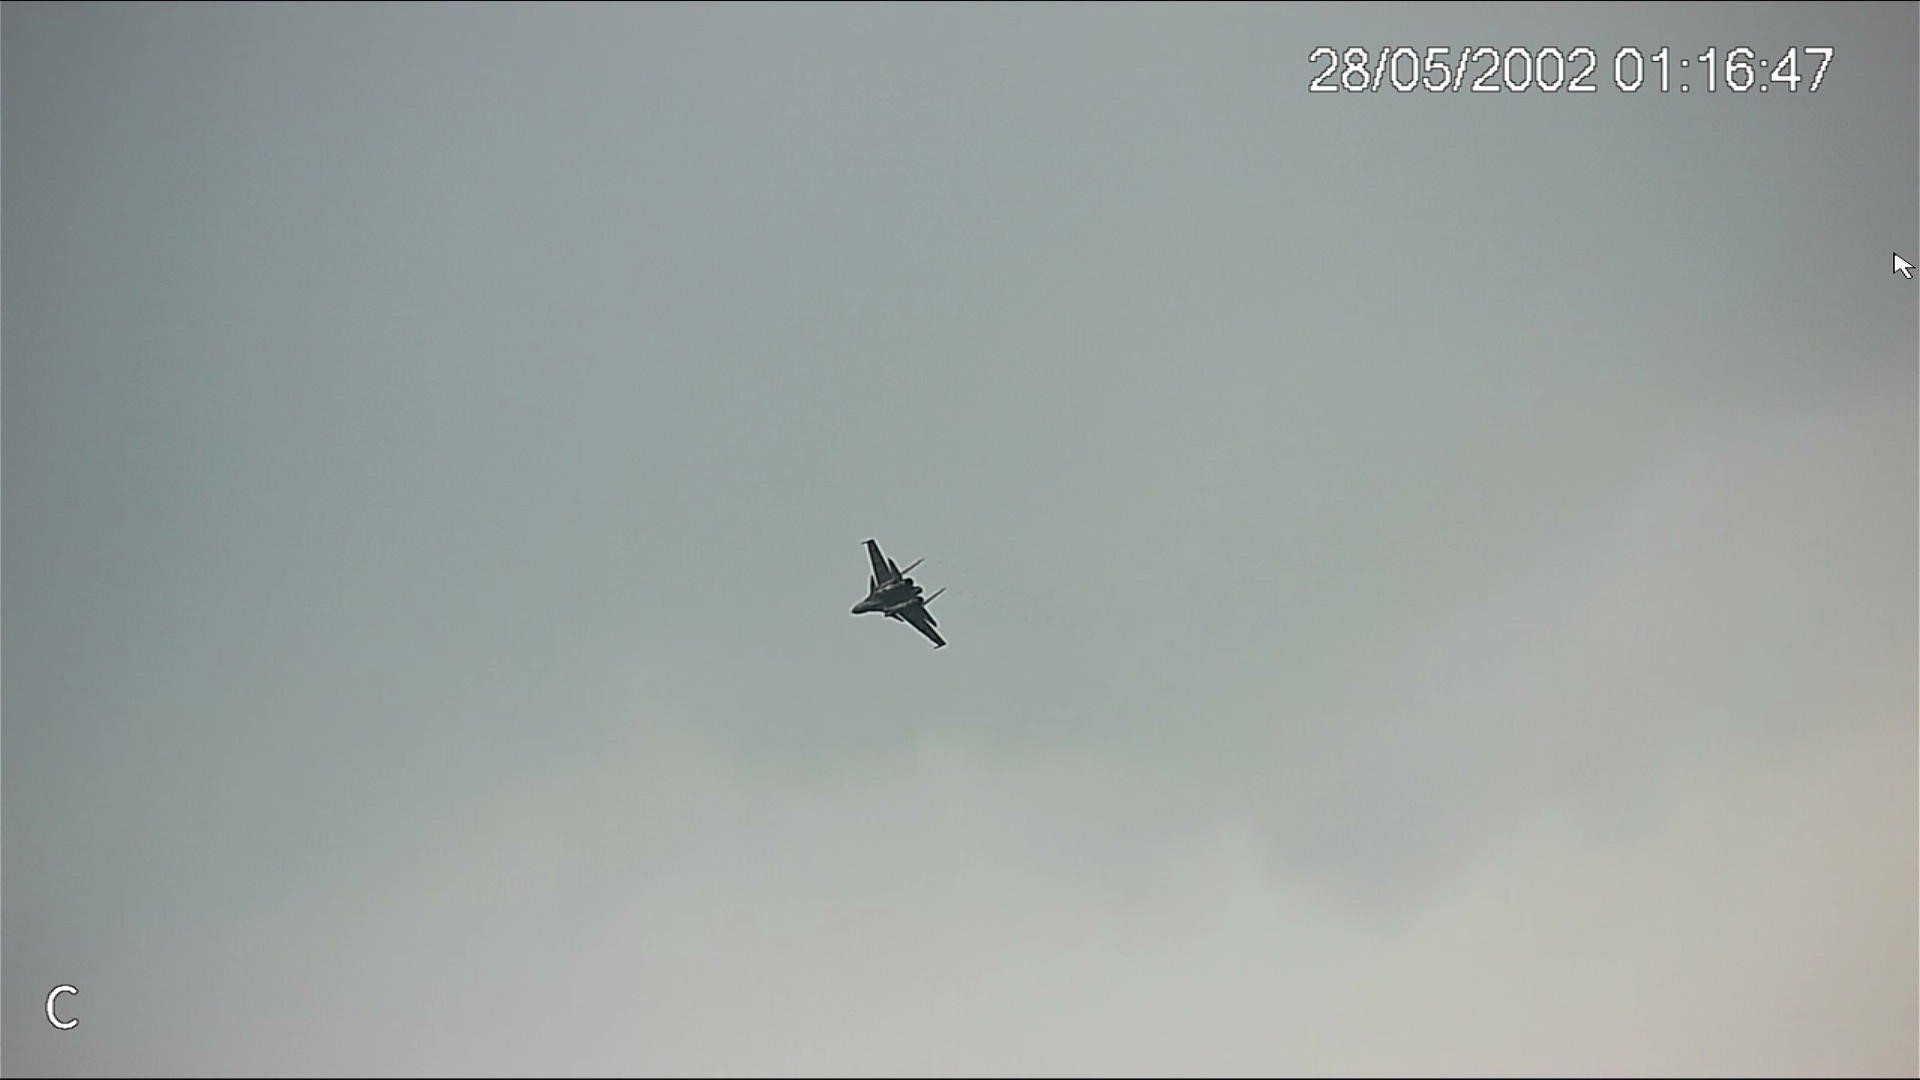SU_30: (851, 535, 949, 649)
